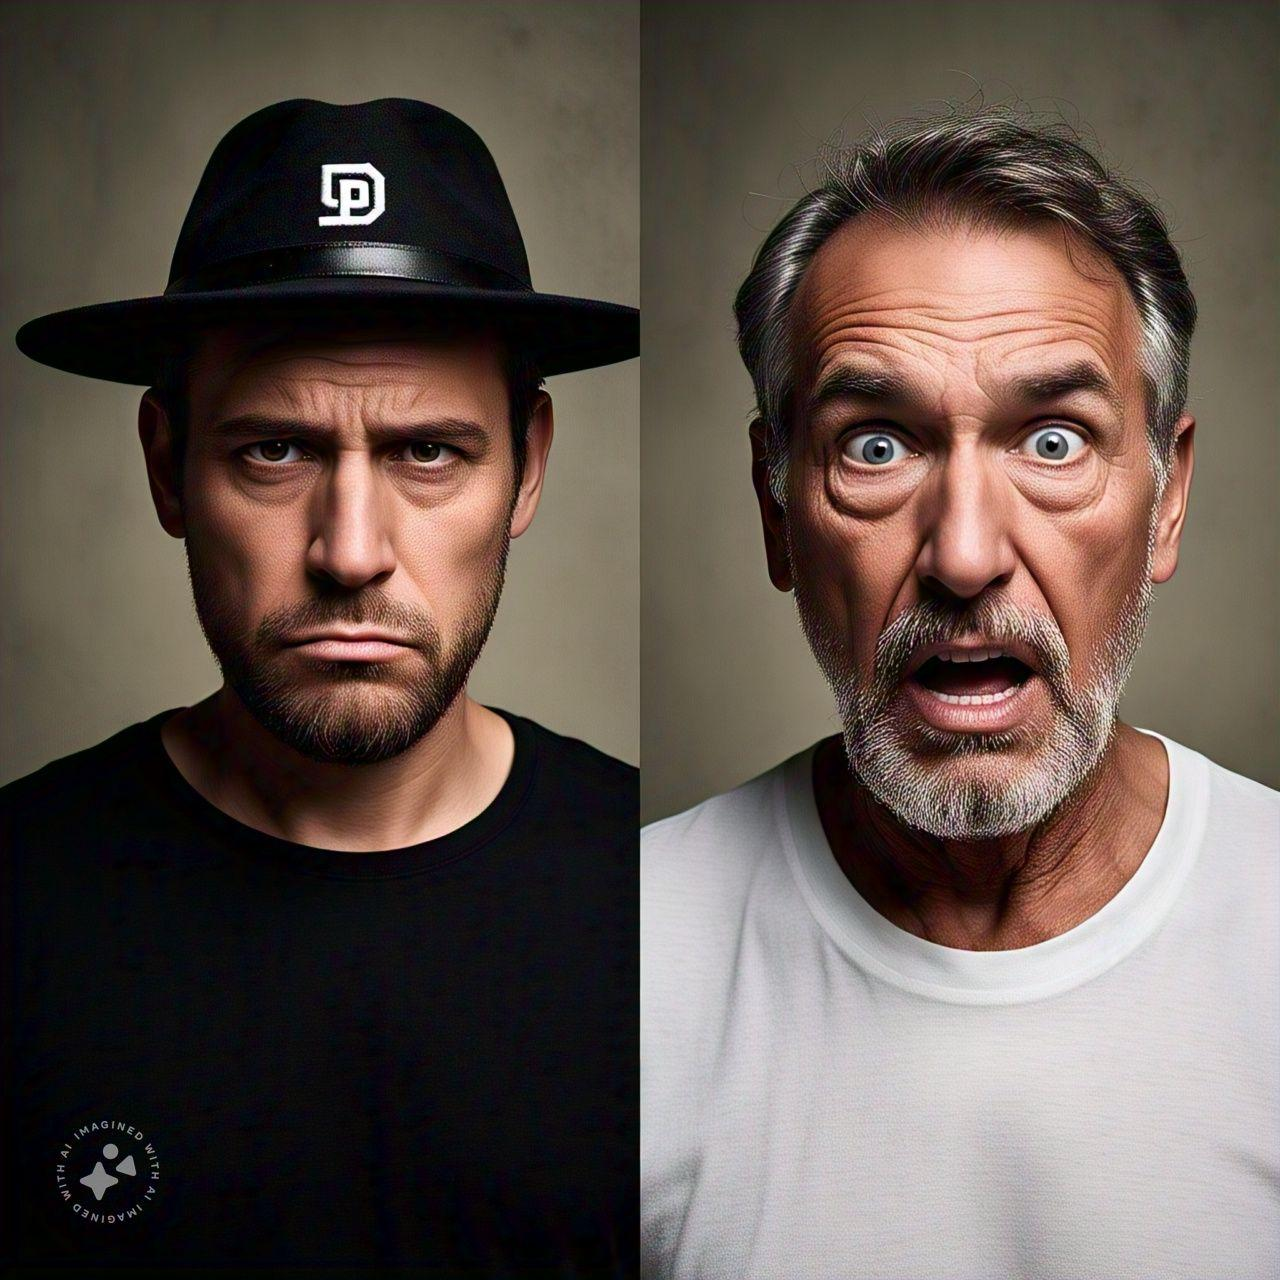normal: (148, 288, 553, 764)
surpreso: (745, 203, 1187, 843)
